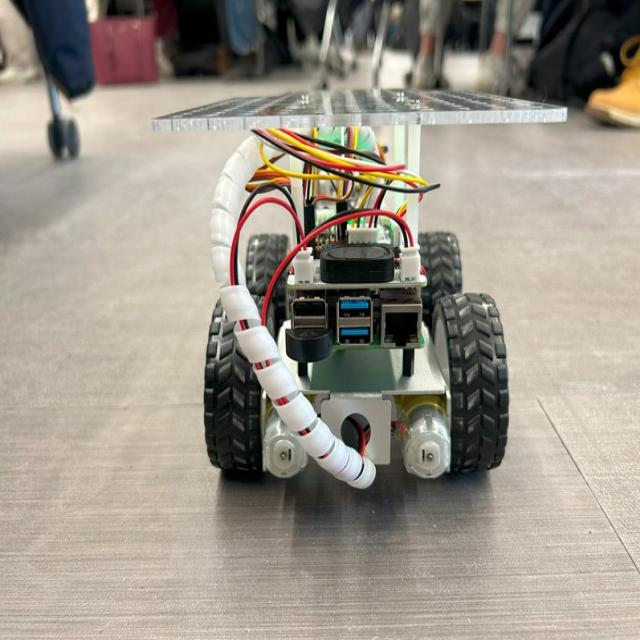vehicle: (135, 61, 583, 521)
